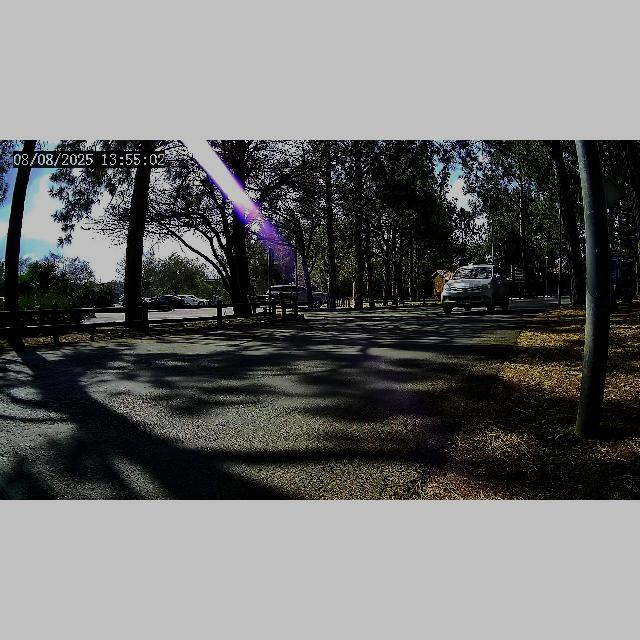car: (441, 263, 511, 315), (264, 283, 330, 309)
